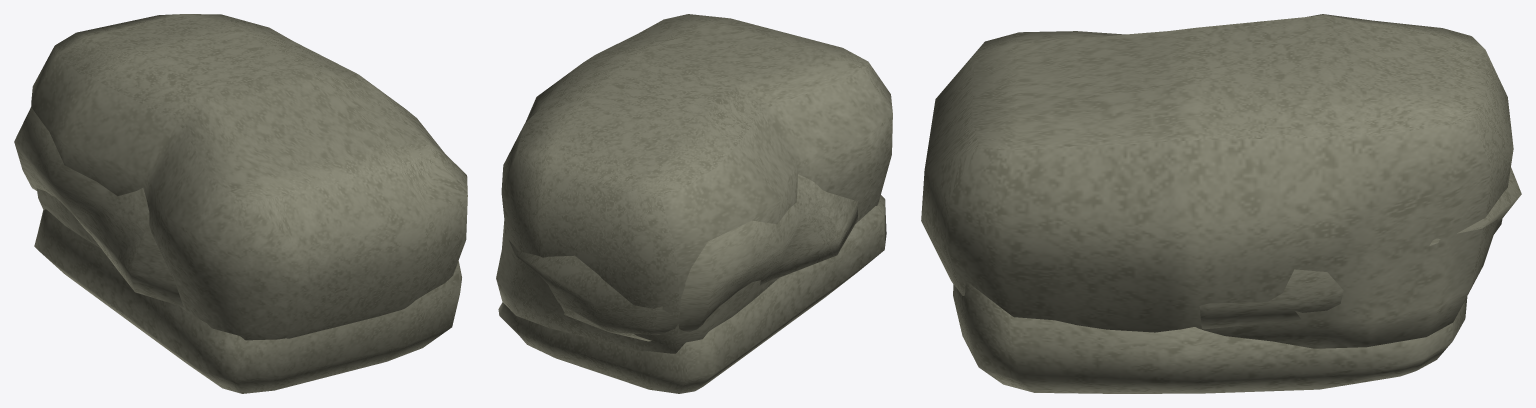
Rendered from RoundSofaRocksf.fbx.
The picture shows the model from 3 angles, left to right: view 1: azimuth 30°, elevation 25°; view 2: azimuth 150°, elevation 25°; view 3: azimuth 270°, elevation 25°; orthographic projection. The views are drawn at different scales.
Parts seen in each view (by area): view 1: Sofa_Rock_1, Sofa_Rock_2, Sofa_Rock_3; view 2: Sofa_Rock_1, Sofa_Rock_3, Sofa_Rock_2; view 3: Sofa_Rock_1, Sofa_Rock_2, Sofa_Rock_3.
Part boxes in pixels (left/top/right/bottom): Sofa_Rock_1: left=31, top=14, right=467, bottom=340; Sofa_Rock_2: left=34, top=209, right=461, bottom=393; Sofa_Rock_3: left=14, top=107, right=183, bottom=307; Sofa_Rock_1: left=496, top=14, right=892, bottom=353; Sofa_Rock_3: left=505, top=174, right=858, bottom=341; Sofa_Rock_2: left=498, top=195, right=886, bottom=393; Sofa_Rock_1: left=921, top=14, right=1513, bottom=348; Sofa_Rock_2: left=953, top=281, right=1467, bottom=393; Sofa_Rock_3: left=1199, top=167, right=1521, bottom=329.
Size of the model in its own units: 44.21 by 33.11 by 62.74.
1 material, 1 textured.
